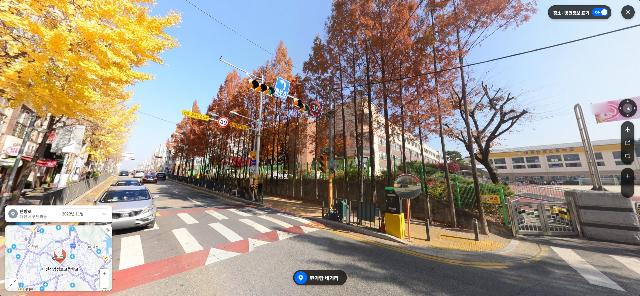ginkgo: (0, 0, 183, 215)
other: (398, 1, 541, 237), (363, 0, 463, 219), (321, 1, 413, 210), (445, 72, 539, 185)
